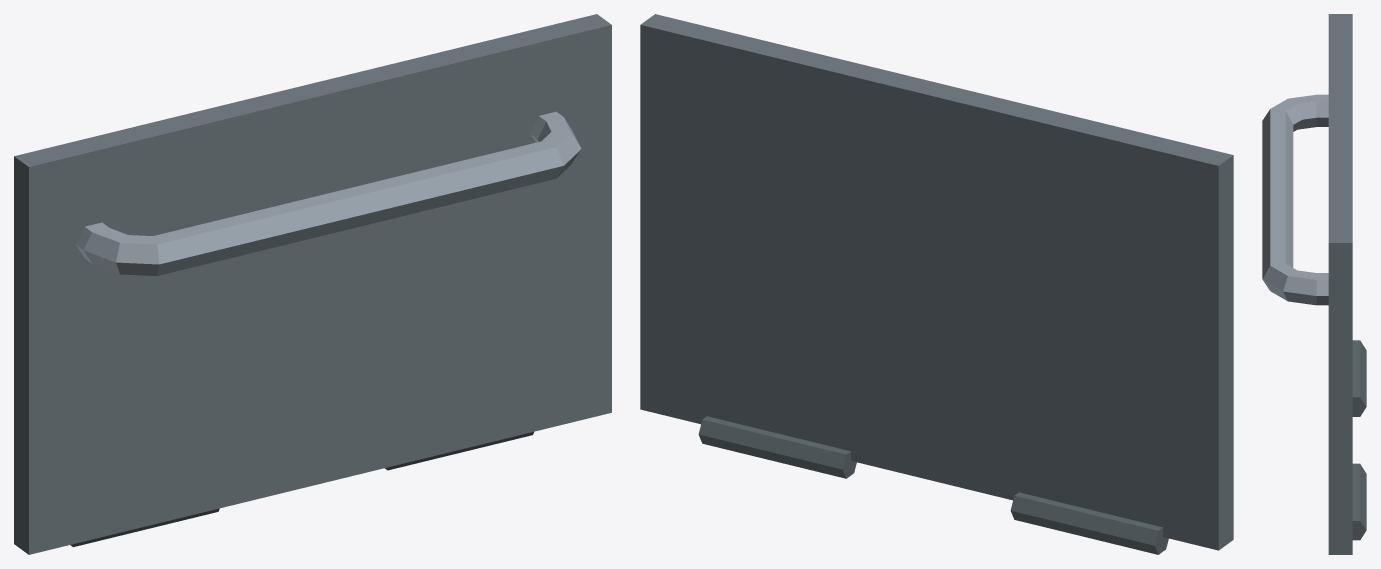
Rendered from SM_Prop_Kitchen_Stove_Oven_01_Door_01.obj.
3 renders of one model, left to right at view 1: azimuth 30°, elevation 25°; view 2: azimuth 150°, elevation 25°; view 3: azimuth 270°, elevation 25°, orthographic. The views are drawn at different scales.
Parts seen in each view (by area): view 1: SM_Prop_Kitchen_Stove_Oven_01_Door_01_0; view 2: SM_Prop_Kitchen_Stove_Oven_01_Door_01_0; view 3: SM_Prop_Kitchen_Stove_Oven_01_Door_01_0.
Part boxes in pixels (left/top/right/bottom): SM_Prop_Kitchen_Stove_Oven_01_Door_01_0: left=14, top=14, right=611, bottom=554; SM_Prop_Kitchen_Stove_Oven_01_Door_01_0: left=640, top=14, right=1233, bottom=554; SM_Prop_Kitchen_Stove_Oven_01_Door_01_0: left=1262, top=14, right=1366, bottom=554.
Bounding box in the file's own units: 0.7837 × 0.5169 × 0.1505.
1 material, 1 textured.
